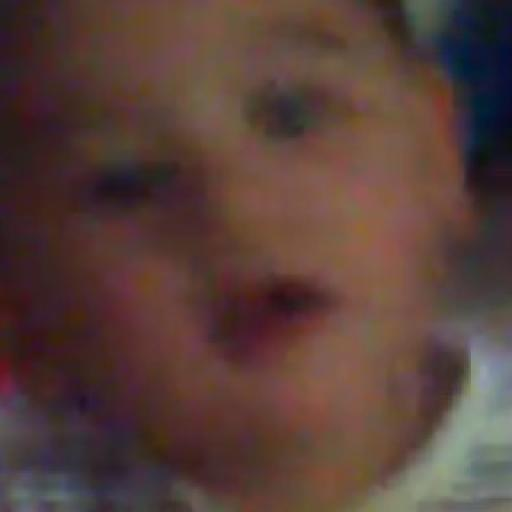Autism: (0, 6, 446, 470)
